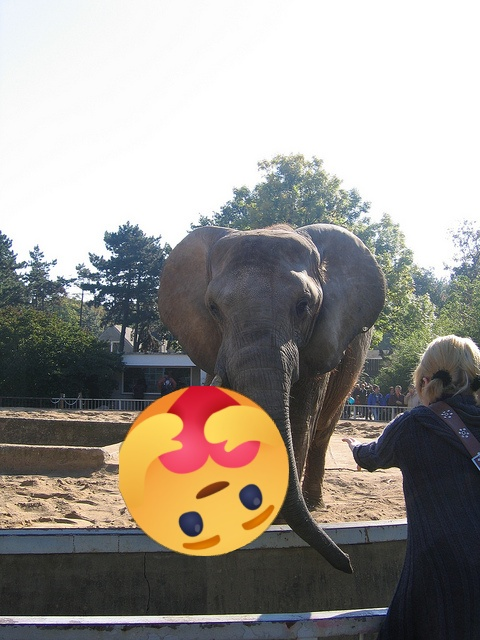care: (119, 386, 289, 556)
